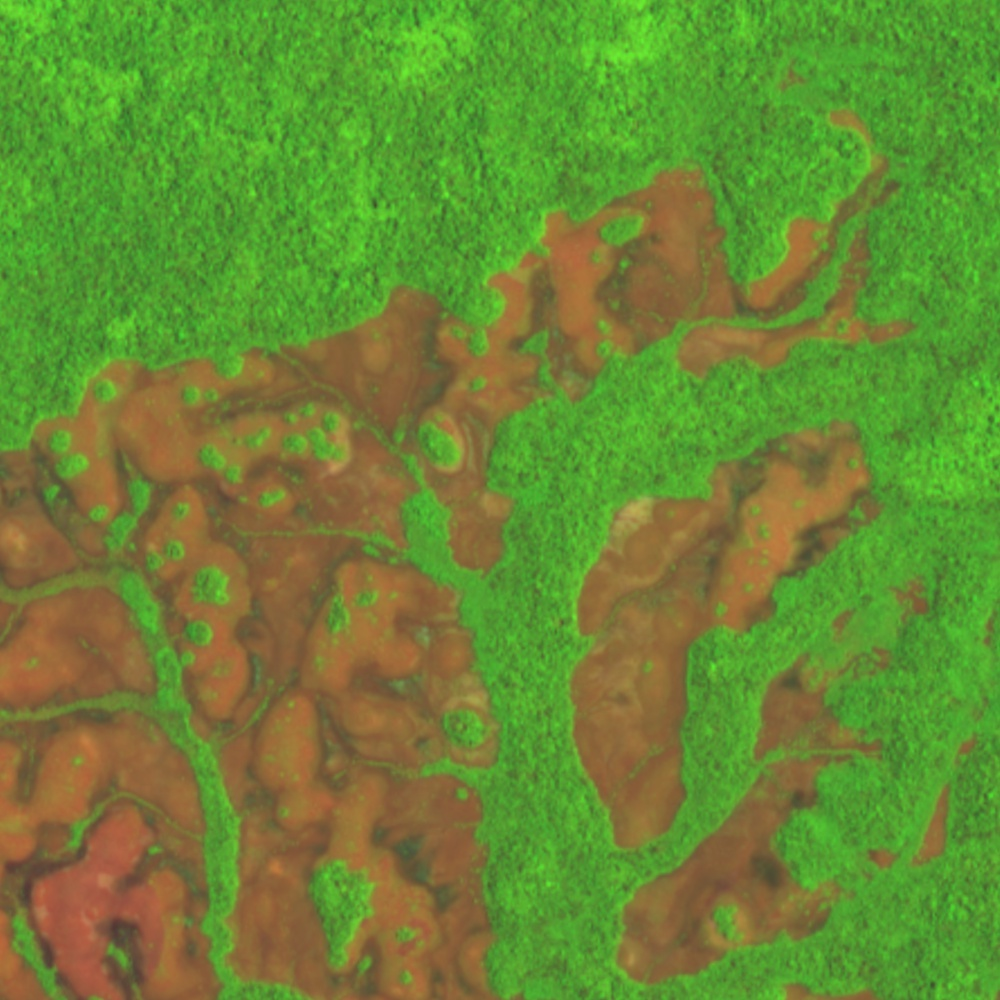legal: (1, 269, 505, 1000), (569, 416, 886, 853), (505, 108, 918, 434), (614, 570, 934, 988), (909, 729, 983, 871), (777, 985, 886, 1000), (979, 604, 995, 656)
